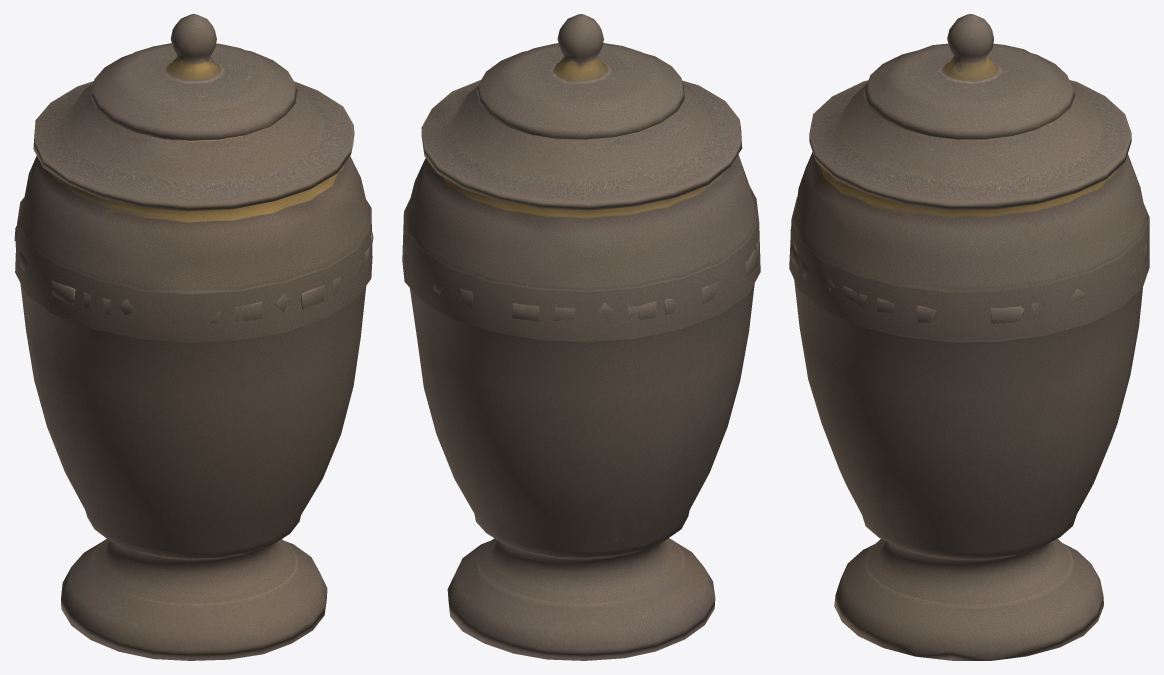
3 views of the same model, side by side, from view 1: azimuth 30°, elevation 25°; view 2: azimuth 150°, elevation 25°; view 3: azimuth 270°, elevation 25° (orthographic).
Bounding box in the file's own units: 0.5234 × 0.9512 × 0.5273.
1 material, 1 textured.
